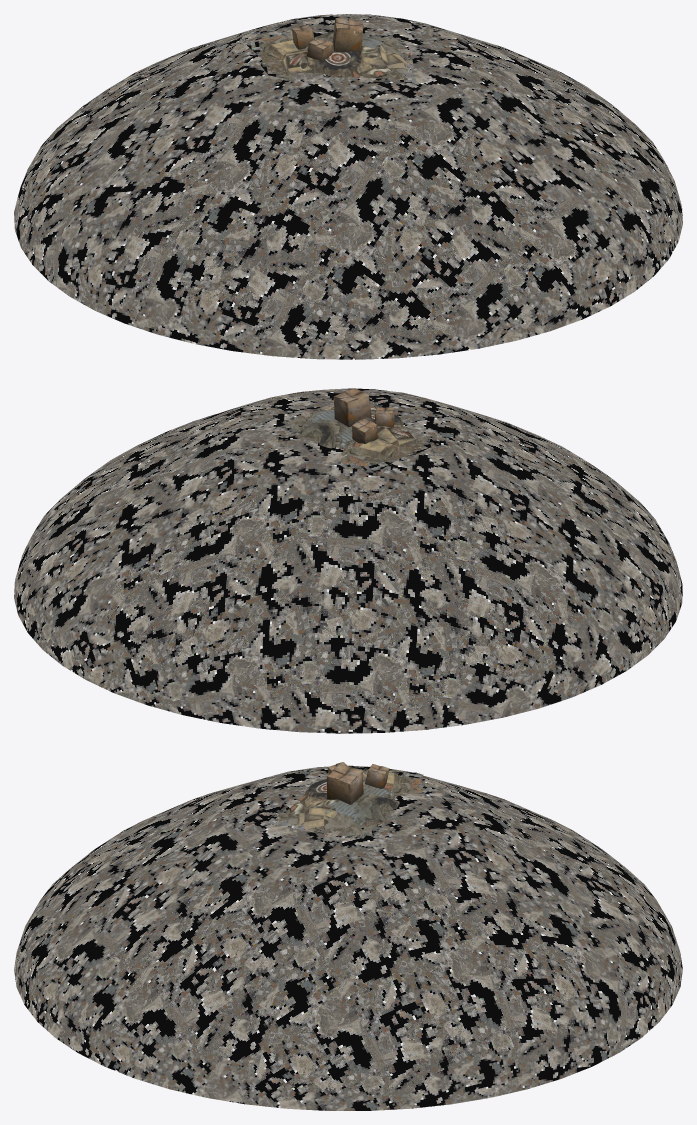
The model's file is junkpile_f.glb.
3 renders of one model, top to bottom at view 1: azimuth 30°, elevation 25°; view 2: azimuth 150°, elevation 25°; view 3: azimuth 270°, elevation 25°, orthographic.
Visible parts, largest first — view 1: junkpile_base, junk_pile_b, cardboardBox; view 2: junkpile_base, junk_pile_b, cardboardBox (×2); view 3: junkpile_base, junk_pile_b, cardboardBox.
Part boxes in pixels (x1,y1,x2,y2): junkpile_base: [14, 14, 682, 359]; junk_pile_b: [247, 31, 416, 83]; cardboardBox: [332, 18, 362, 54]; junkpile_base: [14, 388, 682, 733]; junk_pile_b: [275, 398, 431, 470]; cardboardBox (×2): [333, 388, 377, 443]; junkpile_base: [14, 765, 682, 1110]; junk_pile_b: [264, 766, 433, 840]; cardboardBox: [327, 764, 363, 804].
Bounding box in the file's own units: 23.36 × 7.63 × 23.41.
Materials: 3 (3 with a texture image).
